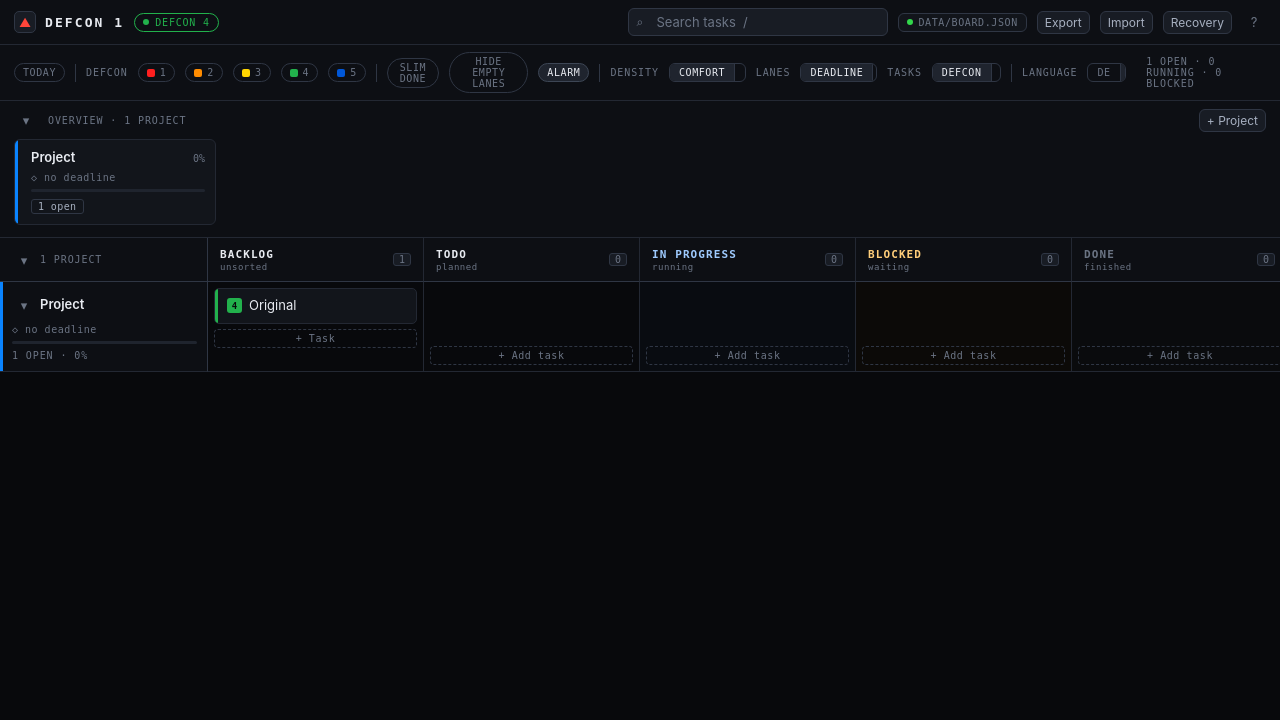
Test: recovery review interface › previews a copy, confirms replacement and keeps a conflicted restore open
Step 1. Click the button "Recovery" → click(1197, 22), box top-left (1163, 10), bottom-right (1232, 34)
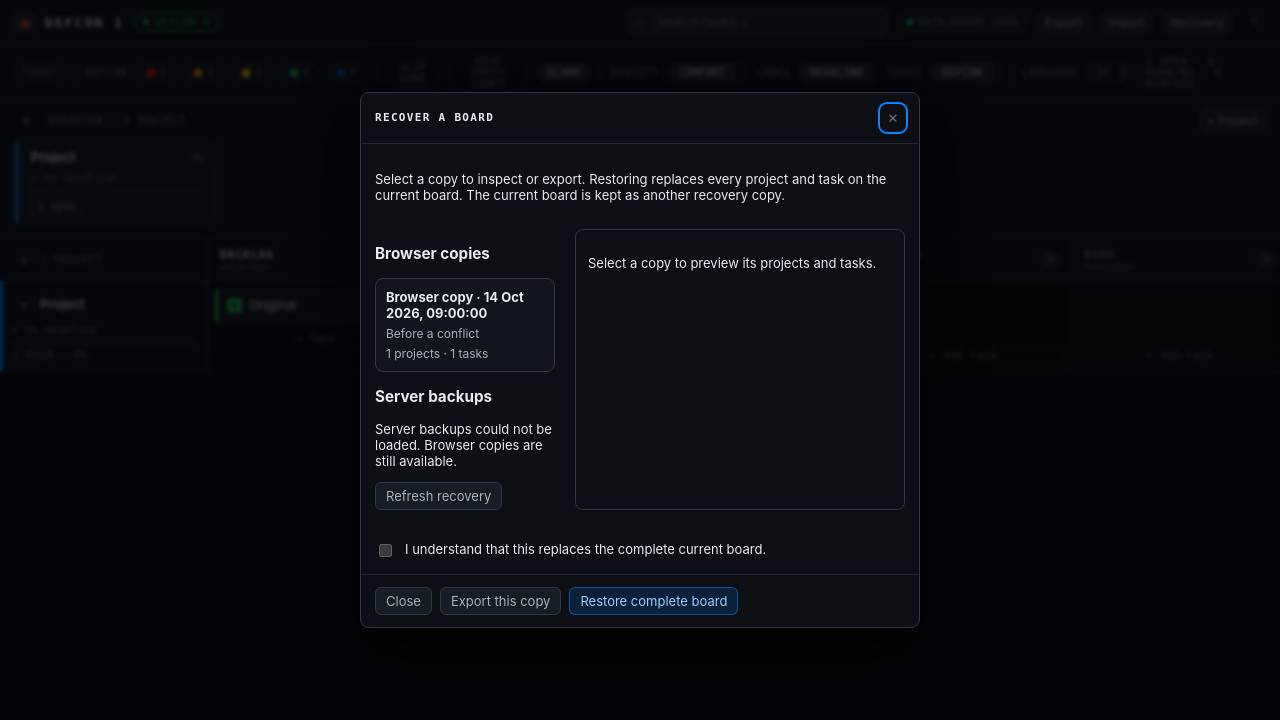
Step 2. Click the button "Browser copy" → click(465, 325), box top-left (375, 278), bottom-right (555, 372)
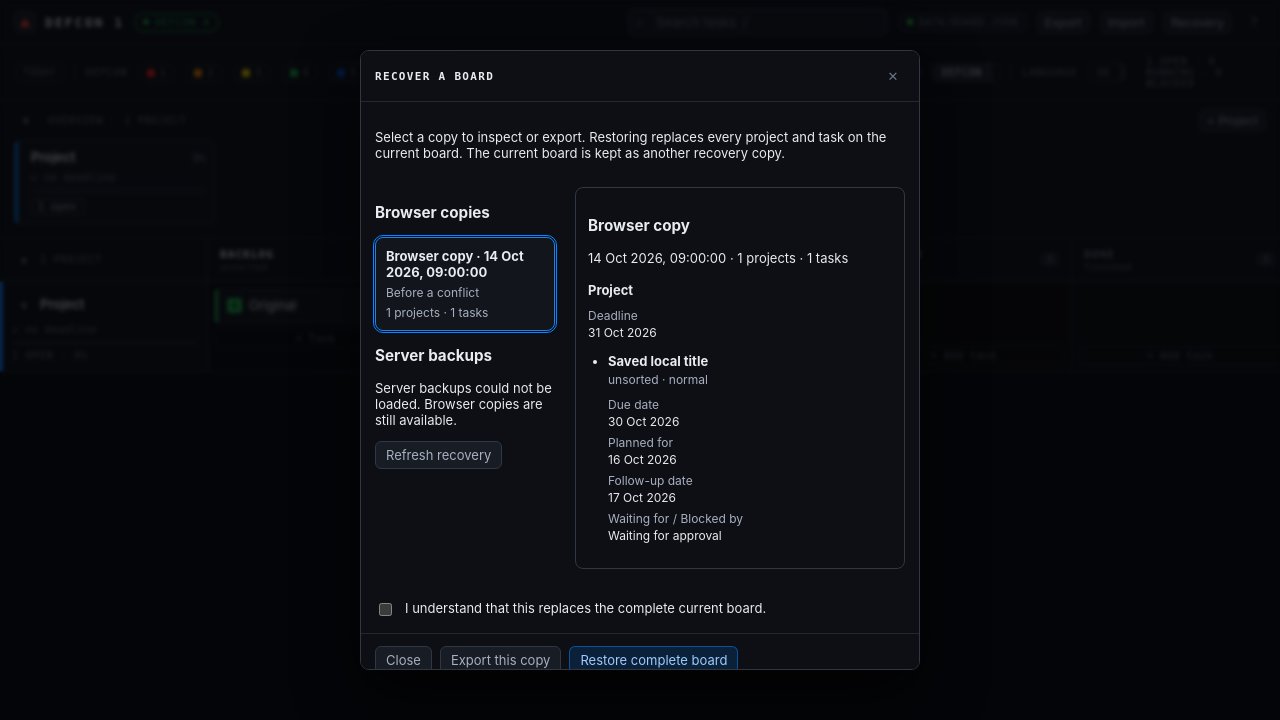
Result: the text "Saved local title" is shown at top-left (608, 353), bottom-right (708, 369)
Result: the text "31 Oct 2026" is shown at top-left (588, 325), bottom-right (657, 340)
Result: the text "30 Oct 2026" is shown at top-left (608, 414), bottom-right (679, 429)
Step 3. Click the checkbox → click(386, 609), box top-left (379, 603), bottom-right (392, 616)
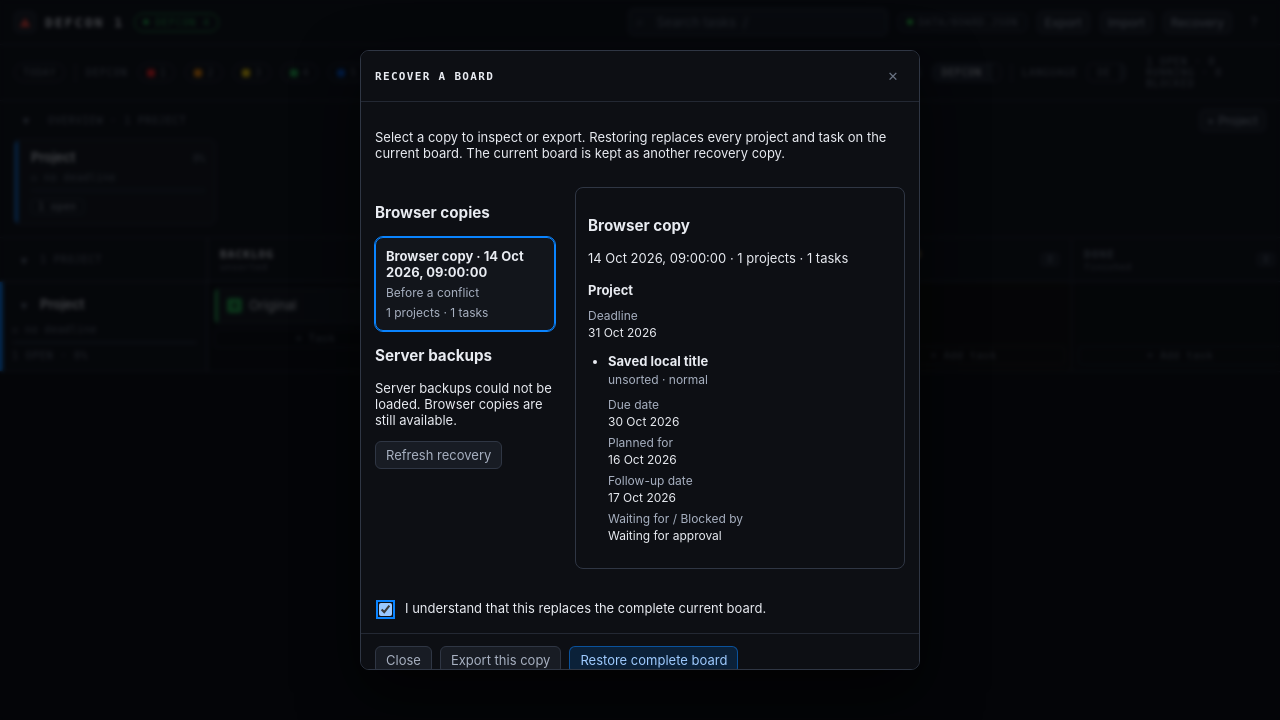
Step 4. Click the button "Restore complete board" → click(654, 660), box top-left (569, 646), bottom-right (738, 674)
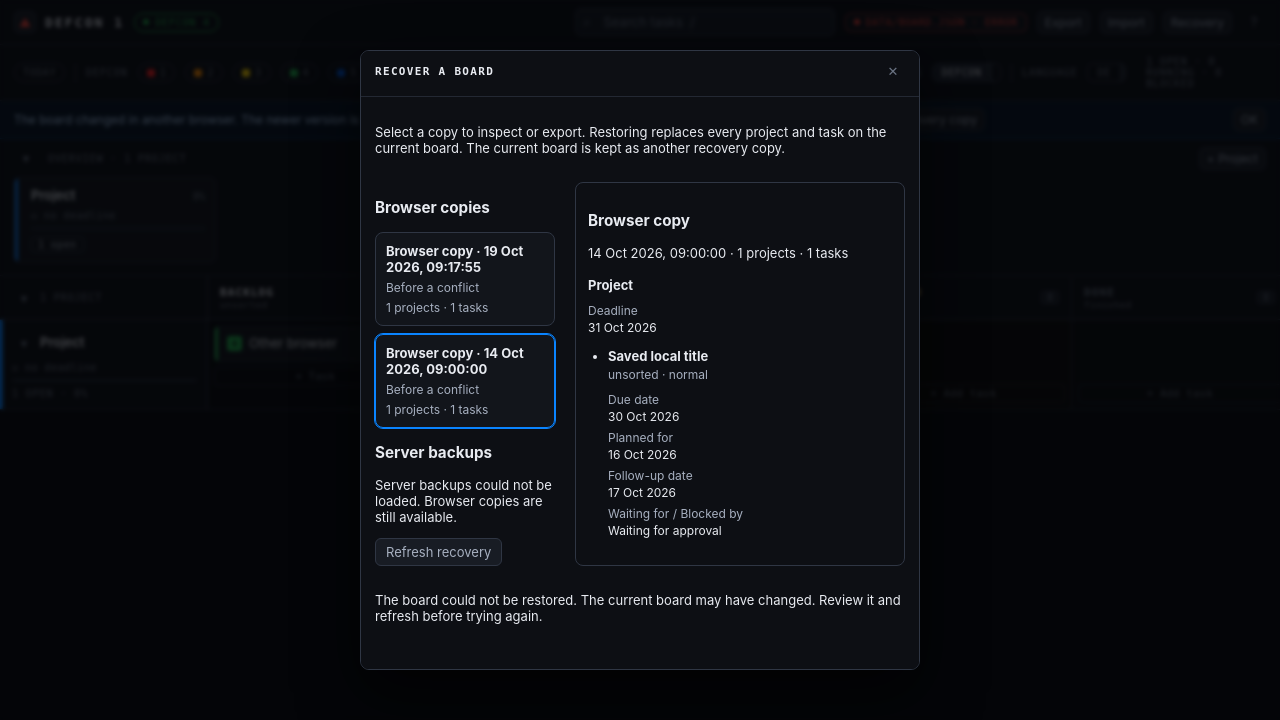
Result: the dialog "Recover a board" is shown at top-left (360, 50), bottom-right (920, 670)
Result: the message is shown at top-left (375, 592), bottom-right (905, 624)
